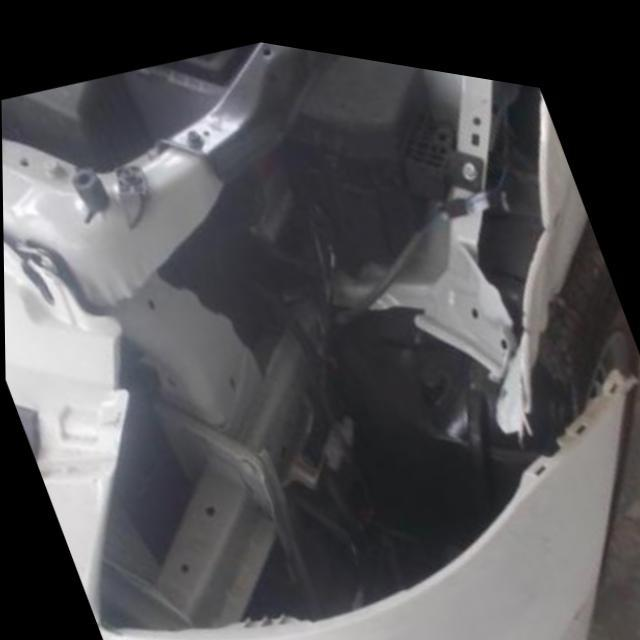dislocated part: (525, 197, 629, 467)
no part: (69, 48, 550, 640)
